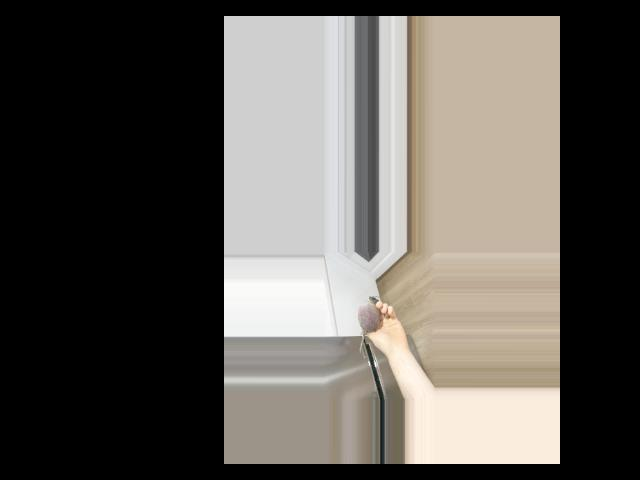beet: (358, 295, 380, 352)
